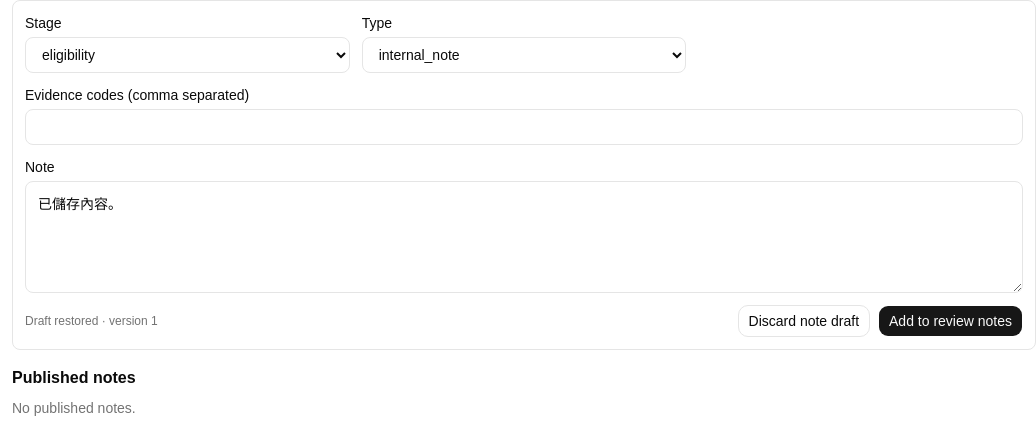
ReturnNoteEditor › reloads the latest draft after a version conflict
The image size is (1036, 433).
Replace the text in the text box labelled "Note" with "過期的本地修改。" at (524, 237), box [25,181,1023,293]
Wait 500 ms
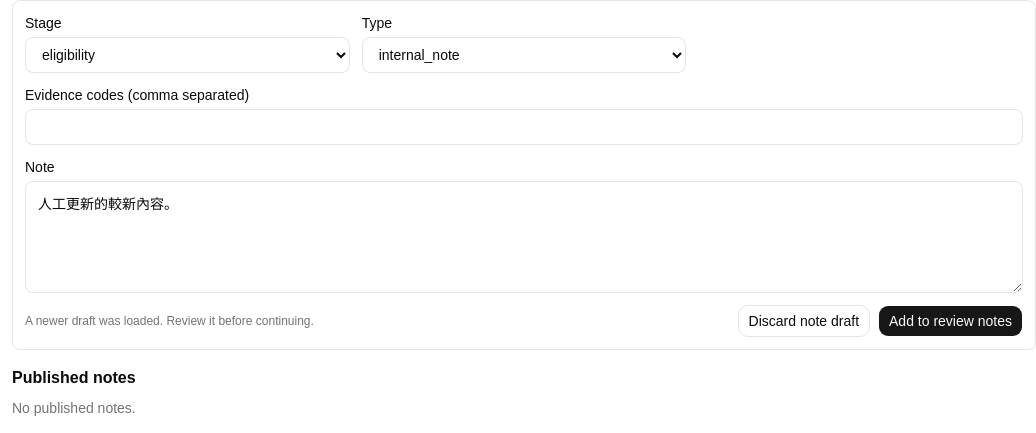
Check: the text box labelled "Note" holds "人工更新的較新內容。", box [25,181,1023,293]
Check: the text "A newer draft was loaded. Review it before continuing." is shown, box [25,313,314,329]
